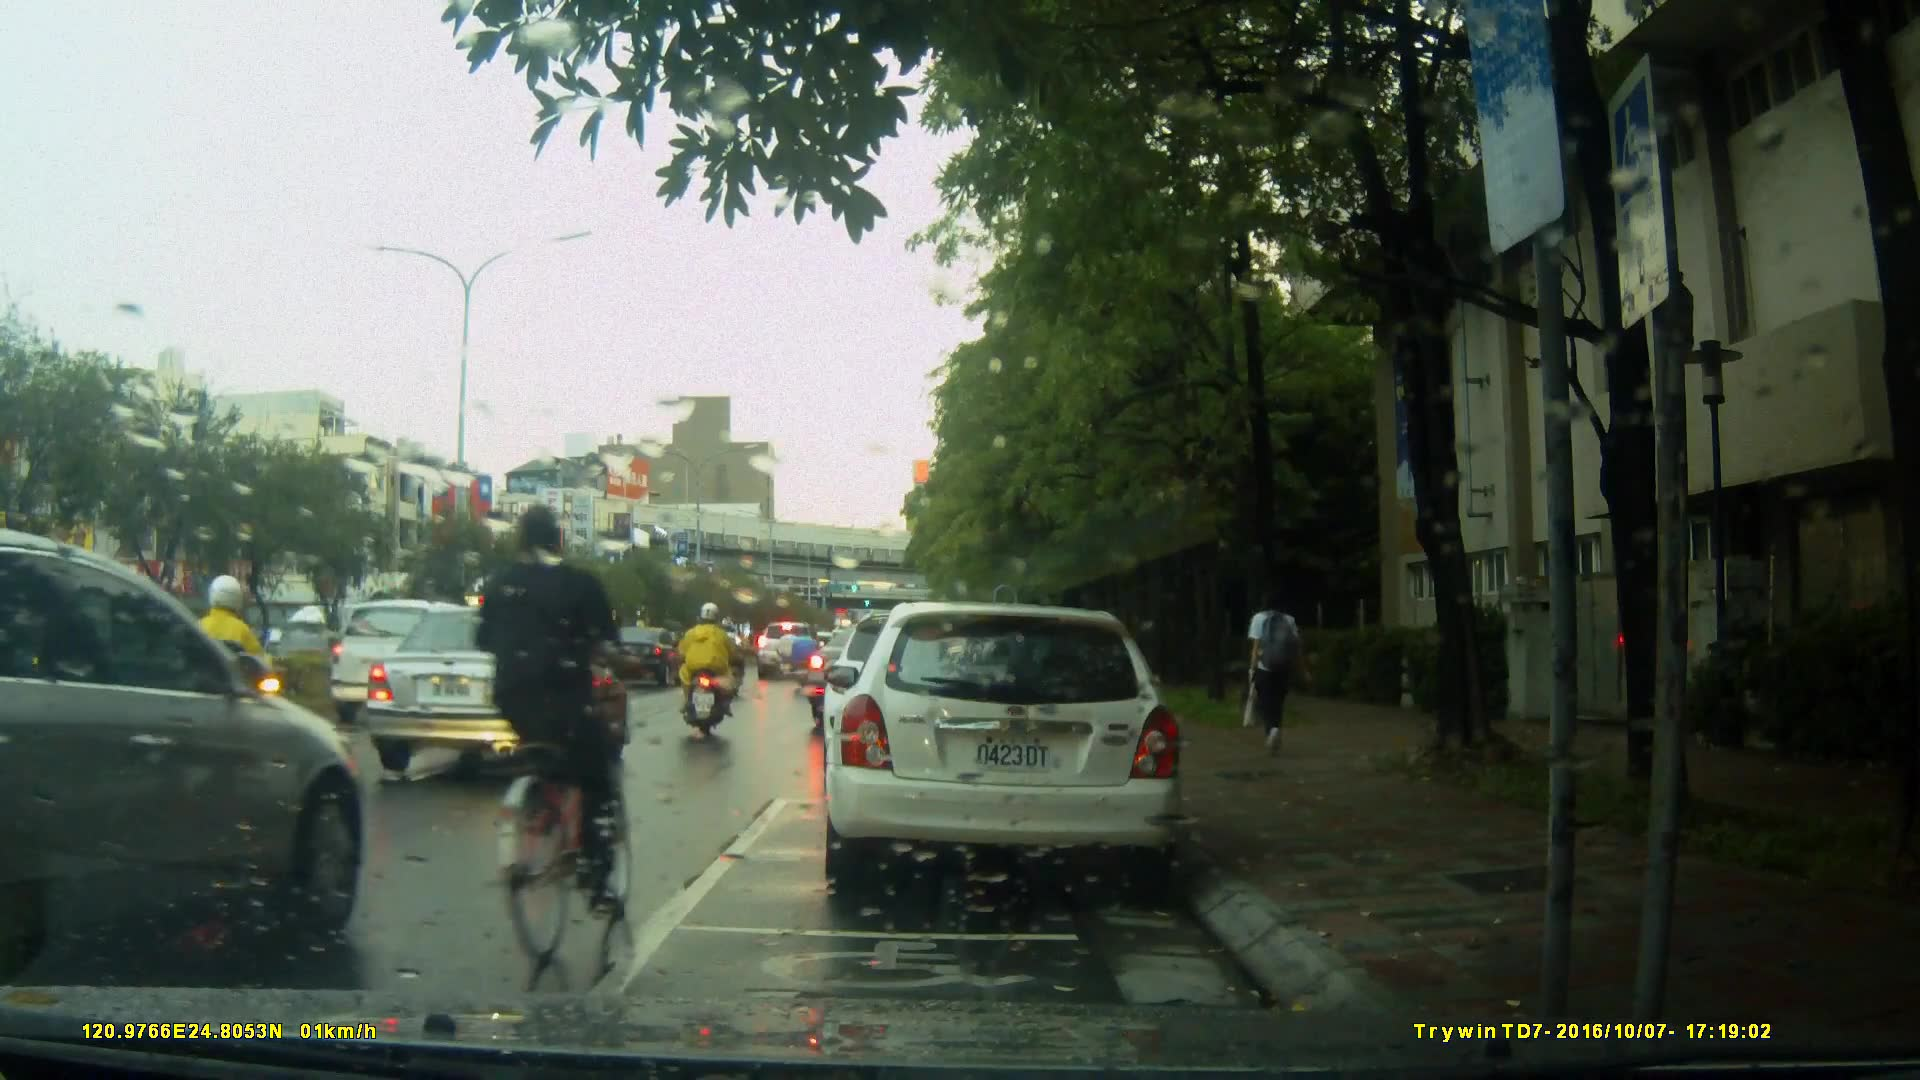pedestrian: (1244, 577, 1308, 760)
rider: (477, 504, 636, 964), (175, 578, 283, 801), (675, 597, 741, 745), (702, 615, 734, 703), (791, 620, 822, 702)
vehicle: (2, 527, 370, 987), (820, 602, 1188, 898), (364, 602, 643, 779), (327, 599, 522, 722), (589, 624, 690, 691)
